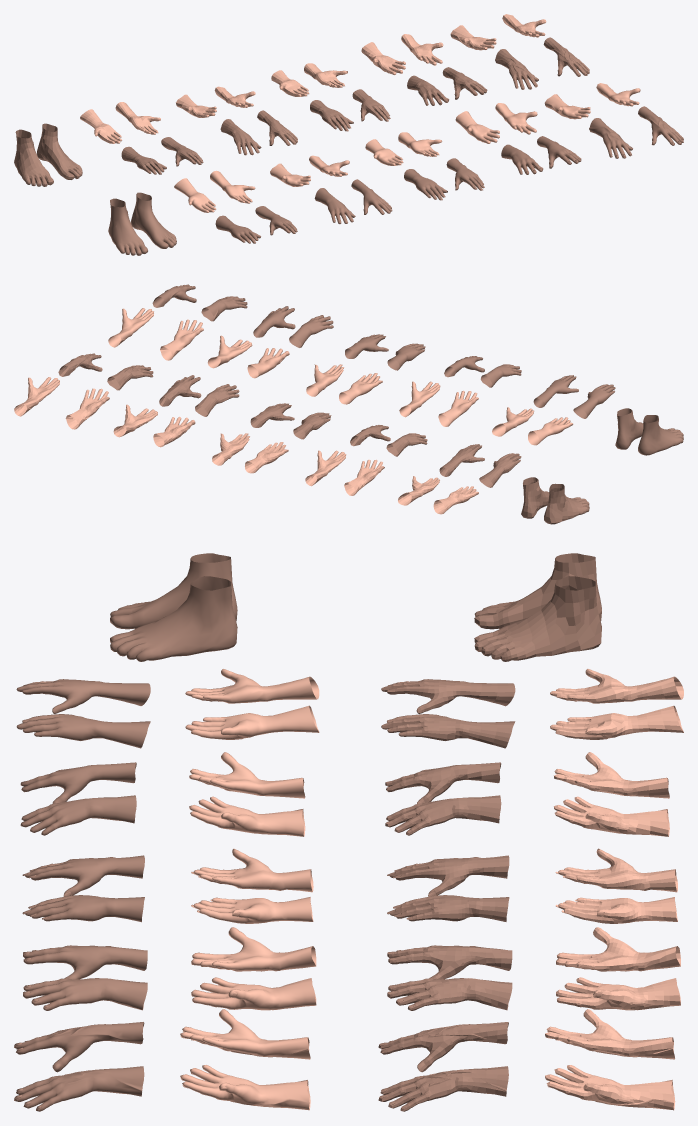
The model's file is HandsAndFoot.glb.
3 views of the same model, one above another, from view 1: azimuth 30°, elevation 25°; view 2: azimuth 150°, elevation 25°; view 3: azimuth 270°, elevation 25° (orthographic). The views are drawn at different scales.
Parts seen in each view (by area): view 1: polySurface1156.003, polySurface1156.001, polySurface1156, polySurface1156.002, polySurface920.005, polySurface920.001, polySurface920, polySurface920.004, hand1_polySurface891.007, hand1_polySurface891.003, hand_man_polySurface1.004, hand_man_polySurface1 (+32 smaller); view 2: polySurface1156.003, polySurface1156.001, polySurface1156.002, polySurface1156, polySurface920.007, polySurface920.003, polySurface920.002, polySurface920.006, hand1_polySurface891.001, hand1_polySurface891.005, hand_man_polySurface1.002, hand_man_polySurface1.006 (+32 smaller); view 3: polySurface1156.002, polySurface1156, polySurface920.004, polySurface920, polySurface920.002, polySurface920.006, hand1_polySurface891.004, hand1_polySurface891.002, hand1_polySurface891, hand1_polySurface891.006, polySurface1156.001, polySurface1156.003 (+32 smaller).
Part boxes in pixels (x1,y1,x2,y2): polySurface1156.003: (14,129,53,186); polySurface1156.001: (108,198,147,255); polySurface1156: (131,192,176,248); polySurface1156.002: (37,123,82,179); polySurface920.005: (495,49,538,89); polySurface920.001: (589,118,632,158); polySurface920: (638,106,683,145); polySurface920.004: (543,37,589,76); hand1_polySurface891.007: (361,42,405,75); hand1_polySurface891.003: (455,111,499,143); hand_man_polySurface1.004: (220,119,261,155); hand_man_polySurface1: (314,188,355,224); polySurface1156.003: (544,483,589,524); polySurface1156.001: (638,415,683,455); polySurface1156.002: (521,477,549,518); polySurface1156: (615,408,643,449); polySurface920.007: (65,388,109,429); polySurface920.003: (160,319,203,360); polySurface920.002: (108,308,153,347); polySurface920.006: (14,377,59,416); hand1_polySurface891.001: (289,315,333,347); hand1_polySurface891.005: (195,384,239,416); hand_man_polySurface1.002: (438,390,478,426); hand_man_polySurface1.006: (344,459,384,495); polySurface1156.002: (474,576,601,661); polySurface1156: (110,576,237,661); polySurface920.004: (378,1066,508,1111); polySurface920: (14,1066,144,1111); polySurface920.002: (180,1065,310,1110); polySurface920.006: (545,1065,675,1110); hand1_polySurface891.004: (387,978,512,1010); hand1_polySurface891.002: (191,977,316,1010); hand1_polySurface891: (23,978,147,1010); hand1_polySurface891.006: (556,977,680,1010); polySurface1156.001: (110,553,237,629); polySurface1156.003: (474,553,601,629).
Bounding box in the file's own units: 1.72 × 0.1083 × 0.9537.
